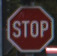stopsign: (7, 6, 55, 52)
